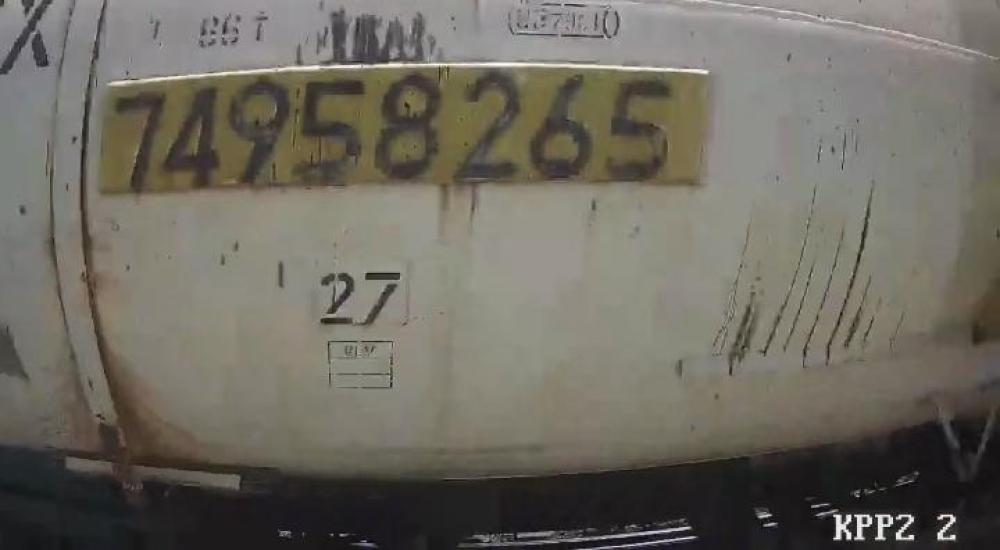Wagon-number: (105, 70, 681, 200)
